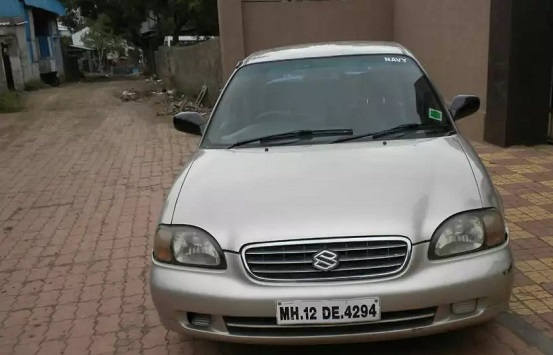licenseplate: (271, 296, 385, 325)
